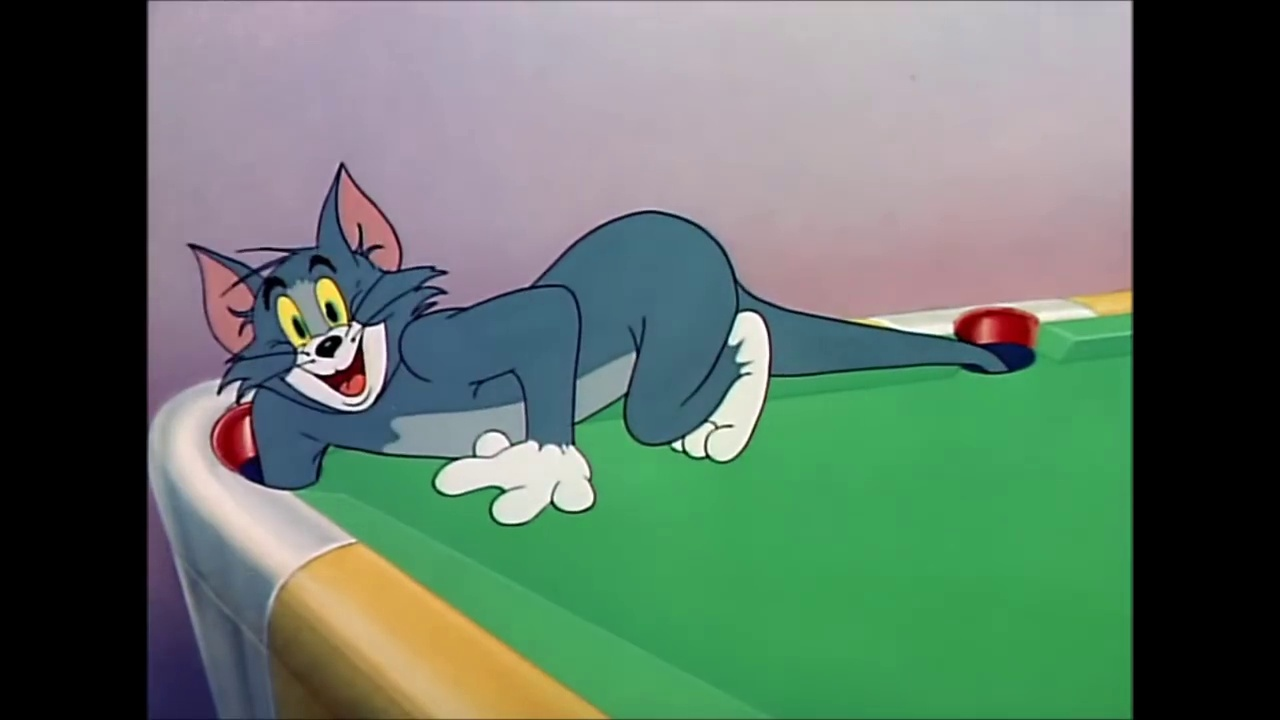happy: (261, 255, 370, 408)
